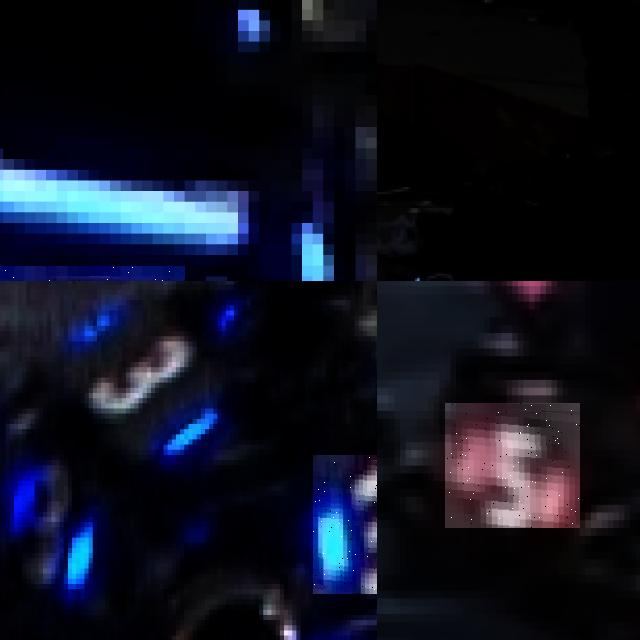B3: (6, 450, 97, 594), (313, 454, 377, 594)
R5: (445, 403, 580, 528)
